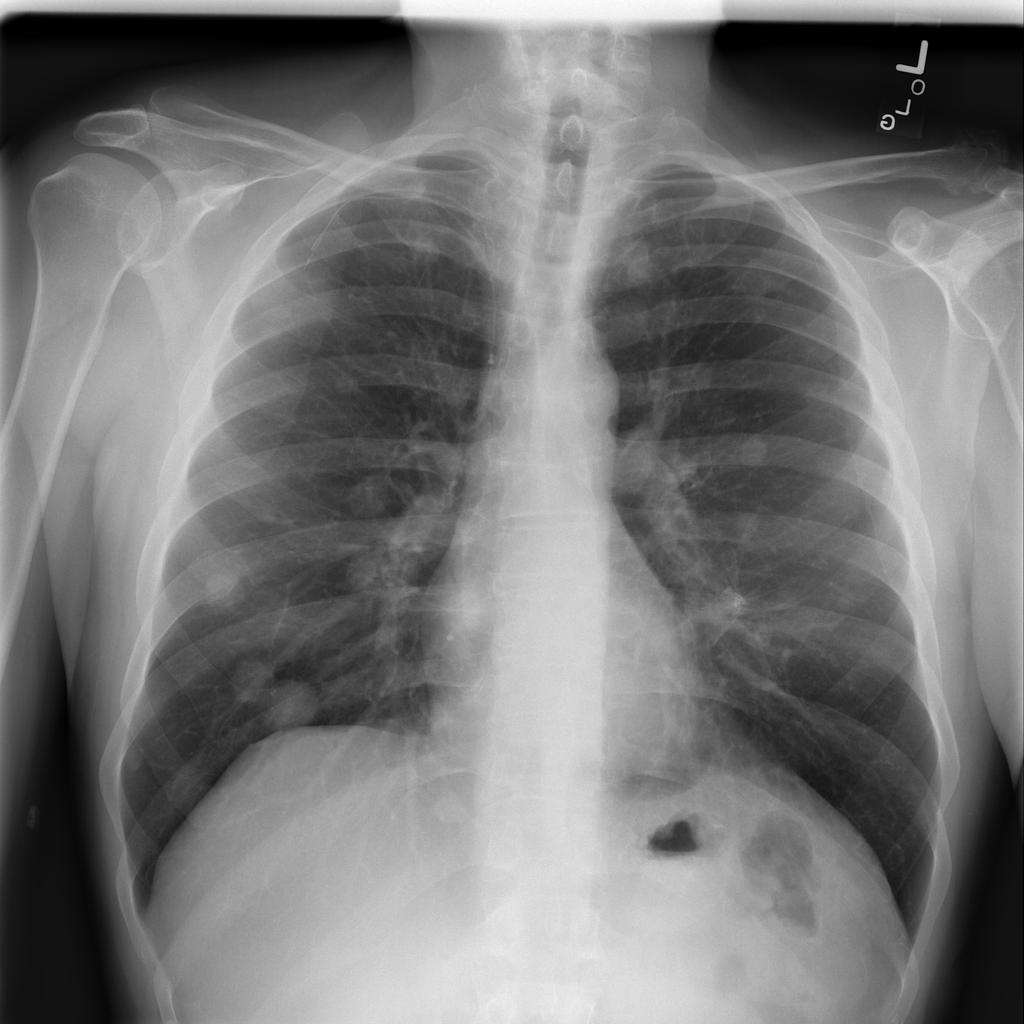nodule: (335, 533, 413, 607), (253, 671, 334, 742), (218, 651, 298, 720), (433, 570, 500, 647), (185, 554, 260, 620), (336, 461, 407, 530), (420, 776, 486, 848), (727, 424, 780, 474), (724, 500, 777, 550), (318, 358, 373, 403), (111, 732, 158, 784), (241, 492, 296, 535)
